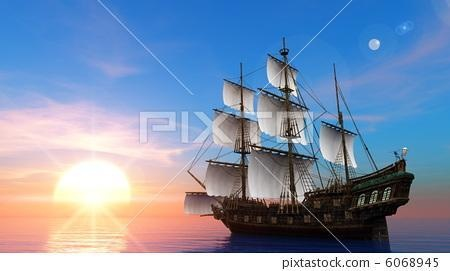fanchuan: (184, 31, 415, 238)
